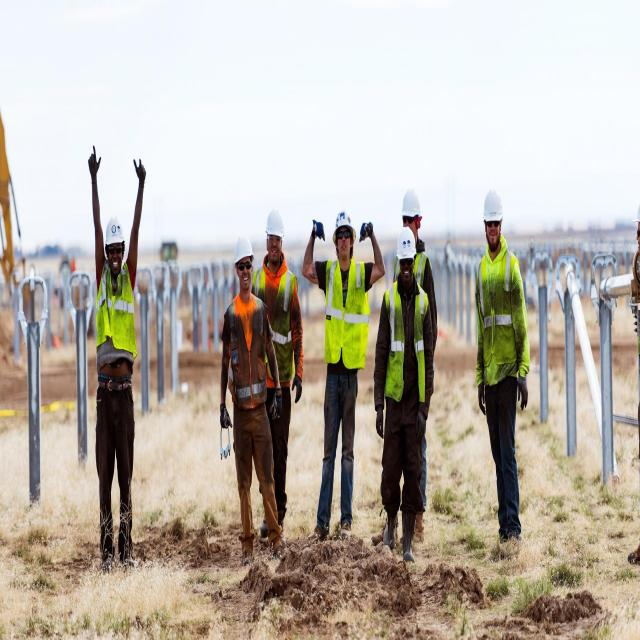helmet: (396, 225, 417, 260), (105, 216, 125, 248)
vest: (384, 276, 428, 403), (324, 257, 371, 373), (477, 246, 519, 372), (227, 291, 267, 409), (95, 258, 137, 359)
